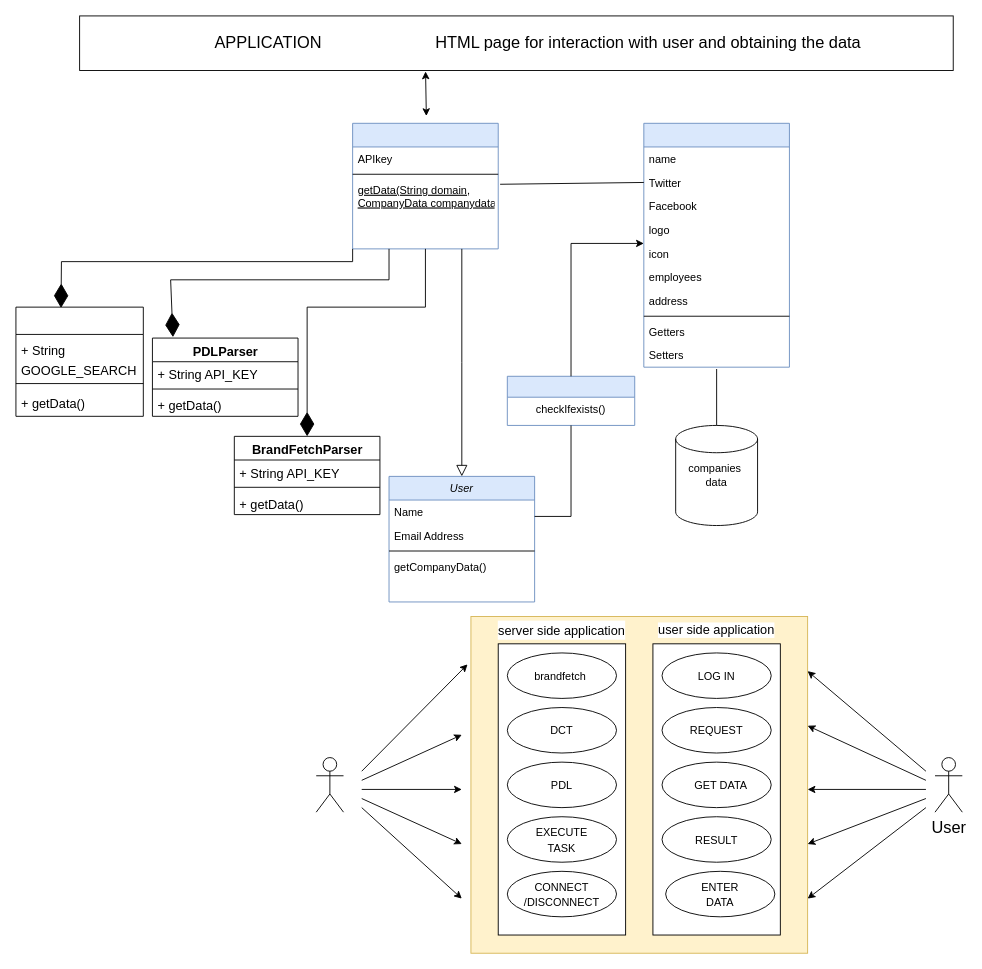
Some shapes in this 982 by 969 pixel diagram are drawn without their labels. The shapes that lost their labels are listed below. From the top down, each one's box as (x1, y1, x2, y2) in pixels, then its label:
(352, 122, 498, 249): Parser
(643, 122, 789, 367): CompanyInfo
(15, 306, 143, 416): JSOUPParser
(506, 375, 635, 425): Checking
(315, 757, 344, 812): Server
